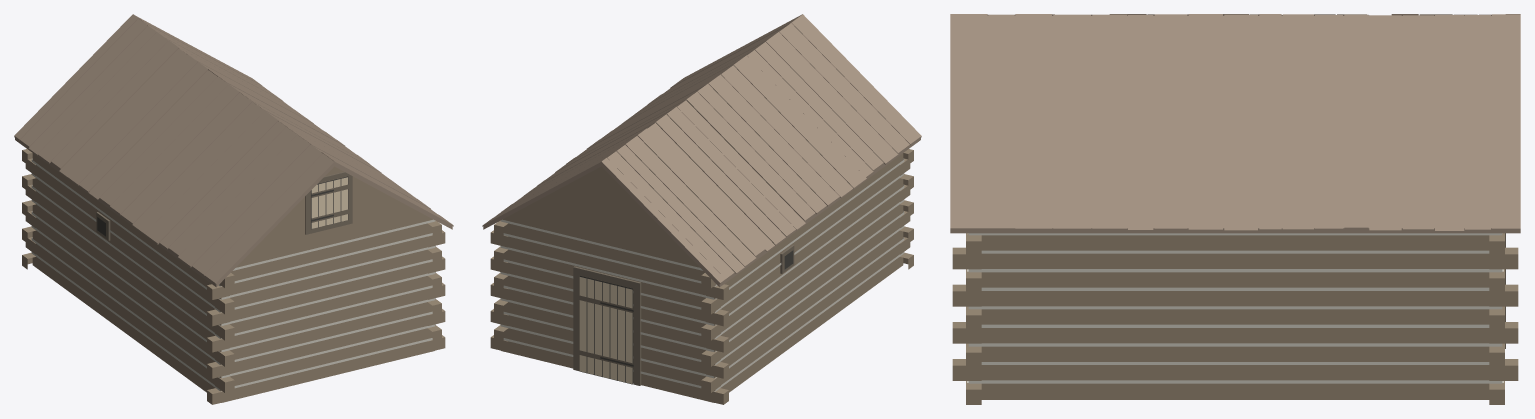
The model's file is recon_1835_blk_washington_clark_a1_09__inferred_1835.glb.
3 views of the same model, side by side, from view 1: azimuth 30°, elevation 25°; view 2: azimuth 150°, elevation 25°; view 3: azimuth 270°, elevation 25° (orthographic). The views are drawn at different scales.
Parts seen in each view (by area): view 1: recon_1835_blk_washington_clark_a1_09__inferred_1835; view 2: recon_1835_blk_washington_clark_a1_09__inferred_1835; view 3: recon_1835_blk_washington_clark_a1_09__inferred_1835.
Boxes of the visible parts, bbox=[...] form: recon_1835_blk_washington_clark_a1_09__inferred_1835: bbox=[14, 14, 453, 404]; recon_1835_blk_washington_clark_a1_09__inferred_1835: bbox=[482, 14, 921, 404]; recon_1835_blk_washington_clark_a1_09__inferred_1835: bbox=[950, 14, 1520, 404].
Size of the model in its own units: 6.03 by 5.28 by 8.75.
